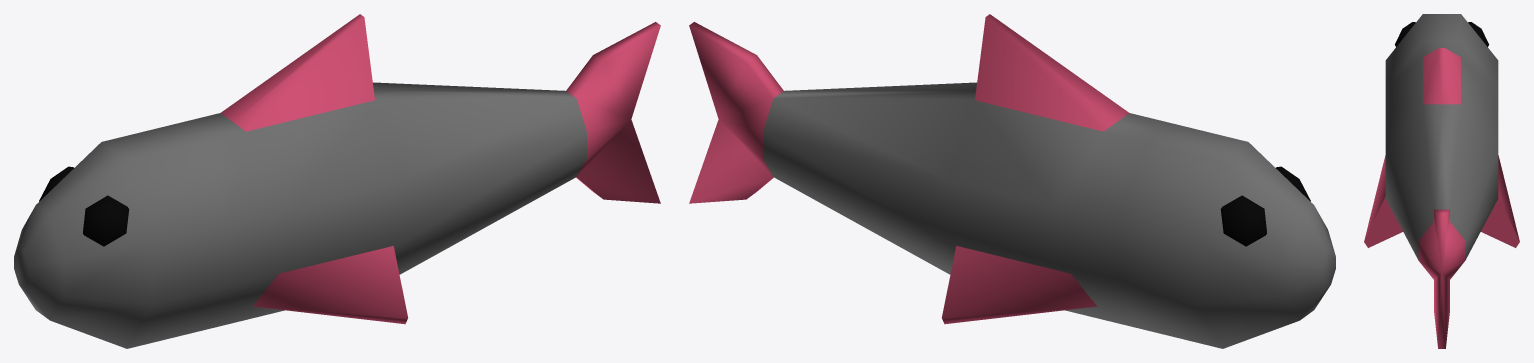
Rendered from Fish.gltf.
3 views of the same model, side by side, from view 1: azimuth 30°, elevation 25°; view 2: azimuth 150°, elevation 25°; view 3: azimuth 270°, elevation 25° (orthographic). The views are drawn at different scales.
Parts seen in each view (by area): view 1: Fish; view 2: Fish; view 3: Fish.
Boxes of the visible parts, box(x1,y1,x2,y2) form: Fish: box(14, 14, 660, 348); Fish: box(689, 14, 1335, 348); Fish: box(1364, 14, 1519, 348).
Size of the model in its own units: 14.71 by 5.98 by 4.18.
